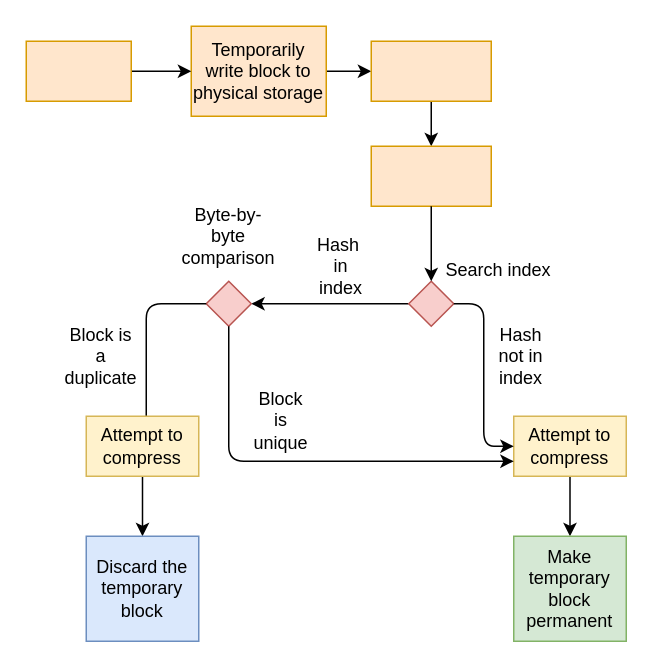
The diagram is 653 pixels wide and 668 high, and some of its shapes have lost their labels. Here are the shapes that lost their labels. From the top down, the centre of each, then its label:
point (78, 70): Receive request
point (430, 70): Acknowledge
point (430, 175): Compute Hash
